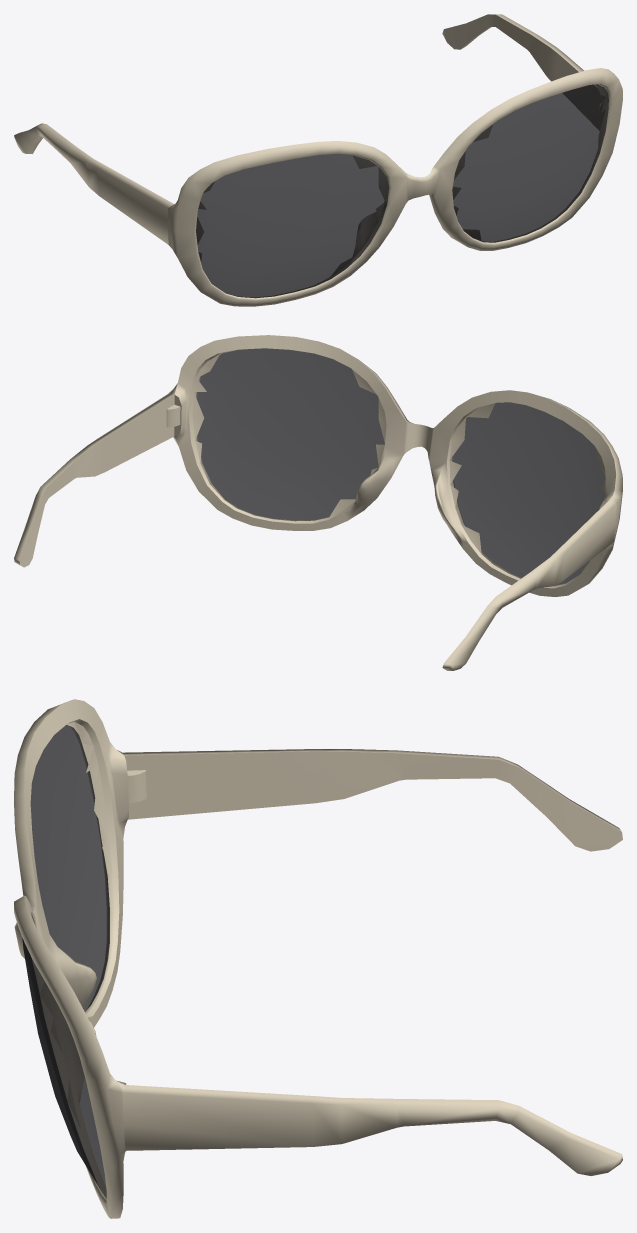
Rendered from model_3_ivory_cream.glb.
The picture shows the model from 3 angles, top to bottom: view 1: azimuth 30°, elevation 25°; view 2: azimuth 150°, elevation 25°; view 3: azimuth 270°, elevation 25°; orthographic projection. The views are drawn at different scales.
Visible parts, largest first — view 1: Oversized_Black_Lens_Sunglasses; view 2: Oversized_Black_Lens_Sunglasses; view 3: Oversized_Black_Lens_Sunglasses.
Boxes of the visible parts, x1,y1,x2,y2 form: Oversized_Black_Lens_Sunglasses: [14, 14, 622, 306]; Oversized_Black_Lens_Sunglasses: [14, 335, 622, 670]; Oversized_Black_Lens_Sunglasses: [14, 699, 622, 1218].
Bounding box in the file's own units: 0.1704 × 0.0608 × 0.1231.
